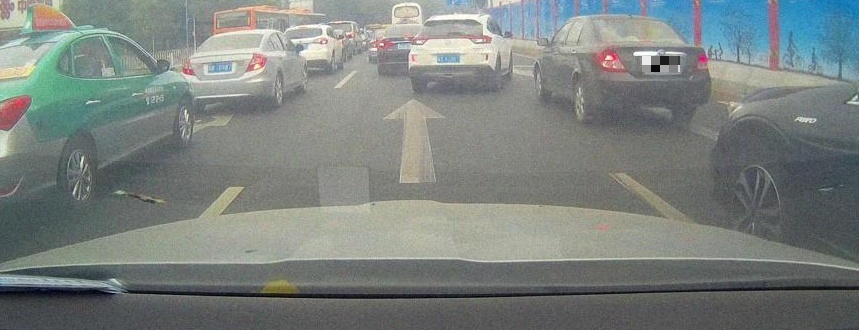L_light: (594, 48, 628, 73), (182, 59, 196, 76), (410, 34, 429, 45)
R_light: (244, 52, 267, 71), (695, 52, 709, 69), (468, 35, 492, 44)
T_light: (627, 18, 643, 22), (441, 35, 456, 38), (230, 34, 244, 37)
day-left: (588, 14, 711, 123)
day-no: (408, 13, 496, 91)
day-right: (181, 29, 269, 108)
plate_1: (642, 56, 680, 72)
